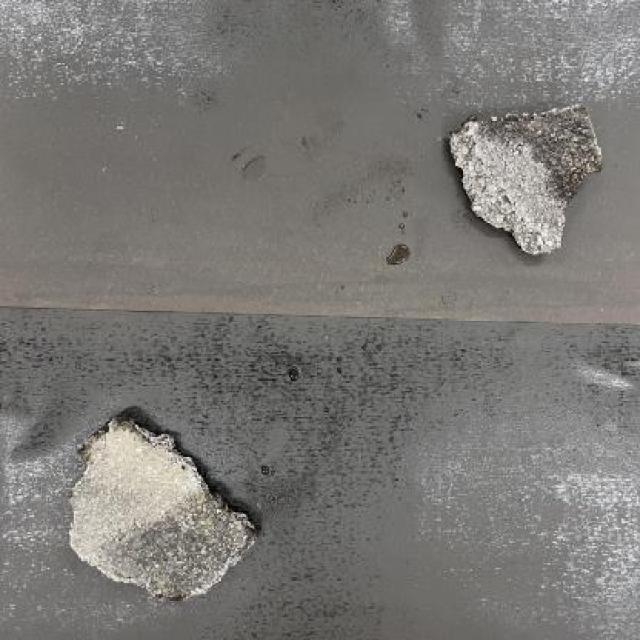Road Debris: (96, 484, 252, 610), (474, 100, 604, 202)
